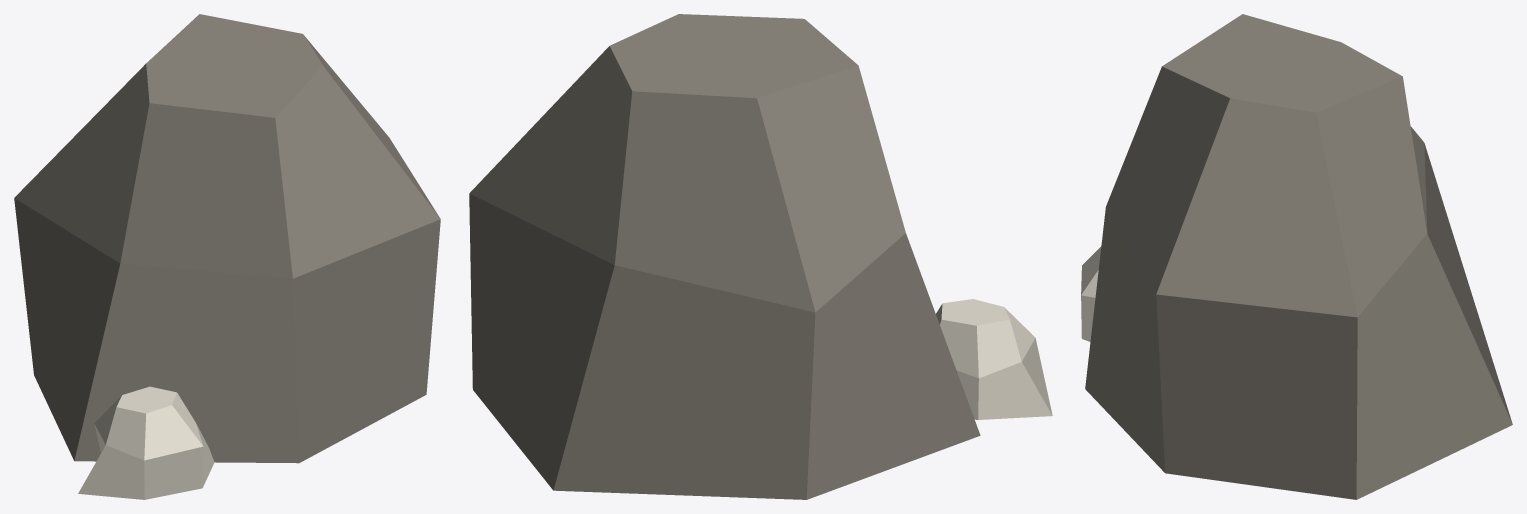
The model's file is Stone5.fbx.
3 views of the same model, side by side, from view 1: azimuth 30°, elevation 25°; view 2: azimuth 150°, elevation 25°; view 3: azimuth 270°, elevation 25° (orthographic). The views are drawn at different scales.
Visible parts, largest first — view 1: Stone5; view 2: Stone5; view 3: Stone5.
Part boxes in pixels (x1=…): Stone5: x1=14, y1=14, x2=440, y2=499; Stone5: x1=469, y1=14, x2=1052, y2=499; Stone5: x1=1081, y1=14, x2=1512, y2=499.
Size of the model in its own units: 0.5735 by 0.426 by 0.4915.
